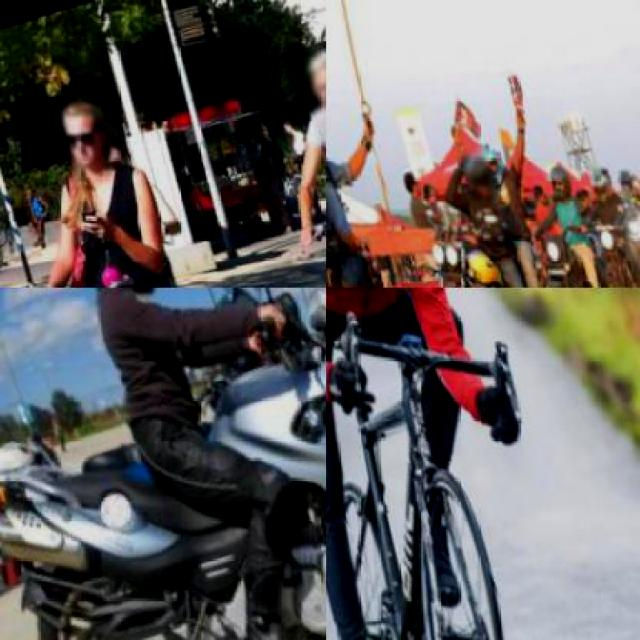With Helmet: (35, 288, 183, 323), (456, 139, 504, 207), (543, 153, 580, 201), (584, 154, 616, 203)
Without Helmet: (48, 76, 135, 184), (286, 28, 325, 130)
